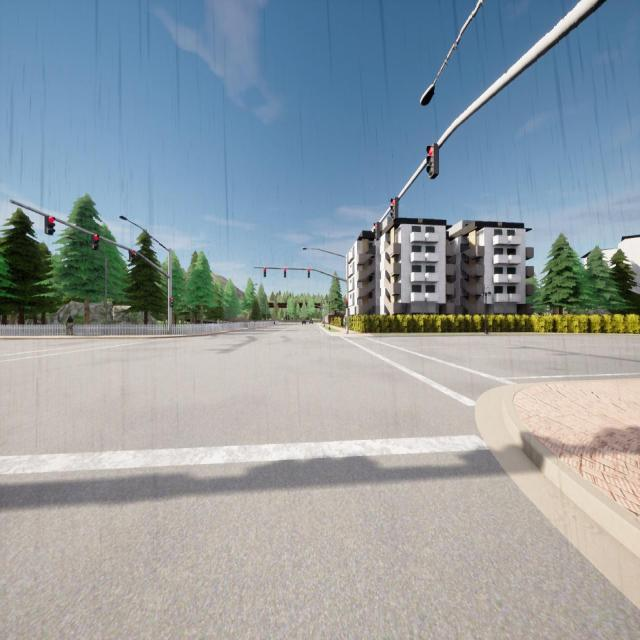Pedestrian: (65, 314, 73, 335)
Vehicle: (309, 320, 314, 324), (302, 320, 306, 324)
traffic_light: (426, 143, 439, 179), (45, 216, 55, 235), (91, 234, 100, 254), (391, 198, 398, 220), (373, 222, 380, 241), (129, 249, 135, 262), (168, 295, 174, 308), (308, 268, 310, 278), (284, 268, 286, 277), (346, 299, 348, 308), (264, 268, 266, 277)
